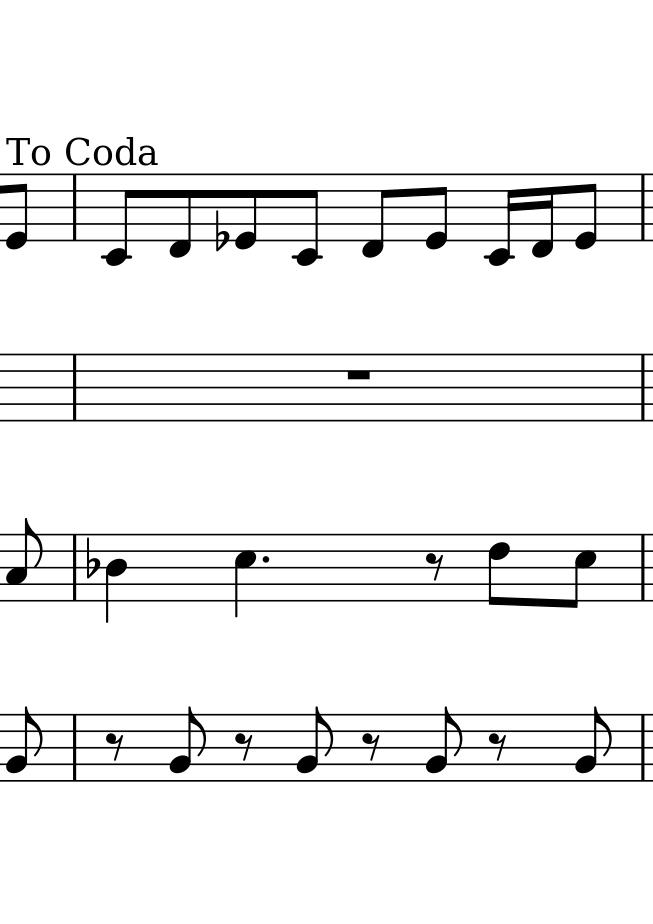16_-1: (532, 168, 555, 260)
16_-2: (485, 173, 520, 269)
4_4: (104, 531, 129, 624)
4_5: (232, 533, 257, 622)
8_-1: (359, 169, 392, 261), (169, 171, 194, 262)
8_-2: (101, 170, 139, 270), (293, 171, 323, 269)
8_0: (424, 172, 451, 251), (573, 170, 600, 249), (6, 172, 29, 256), (234, 172, 259, 249)
8_2: (5, 704, 45, 787), (424, 705, 465, 785), (167, 704, 209, 782), (573, 705, 614, 784), (294, 707, 336, 781)
8_3: (5, 517, 43, 603)
8_5: (564, 531, 598, 611)
8_6: (485, 532, 511, 608)
Flat: (212, 209, 230, 254), (85, 538, 101, 579)
Rests1: (342, 367, 376, 384)
Rests8: (103, 730, 125, 766), (231, 731, 254, 762), (361, 730, 382, 762), (424, 551, 444, 582), (487, 731, 506, 761)
Single_barline: (64, 534, 84, 600), (65, 714, 83, 782), (634, 713, 651, 782), (635, 354, 651, 421), (635, 174, 651, 240), (67, 353, 82, 421), (635, 533, 650, 600), (67, 174, 82, 240)
ToCoda: (5, 133, 157, 169)
dot: (258, 552, 272, 567)
